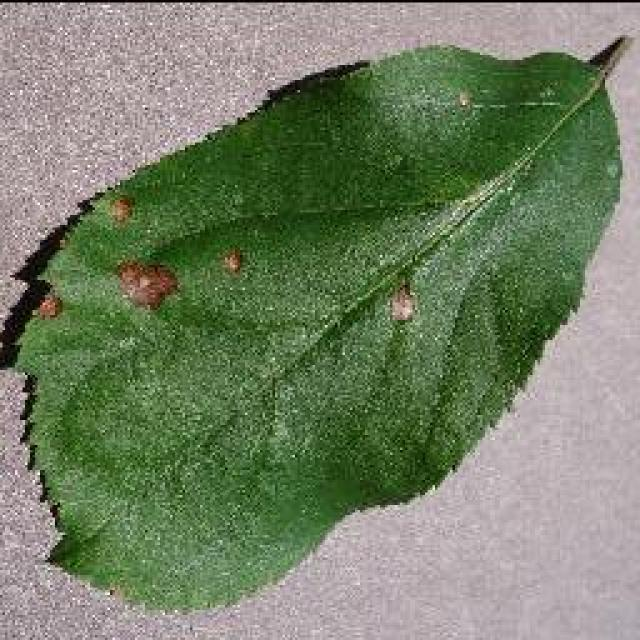apple scab disease: (0, 32, 630, 618)
